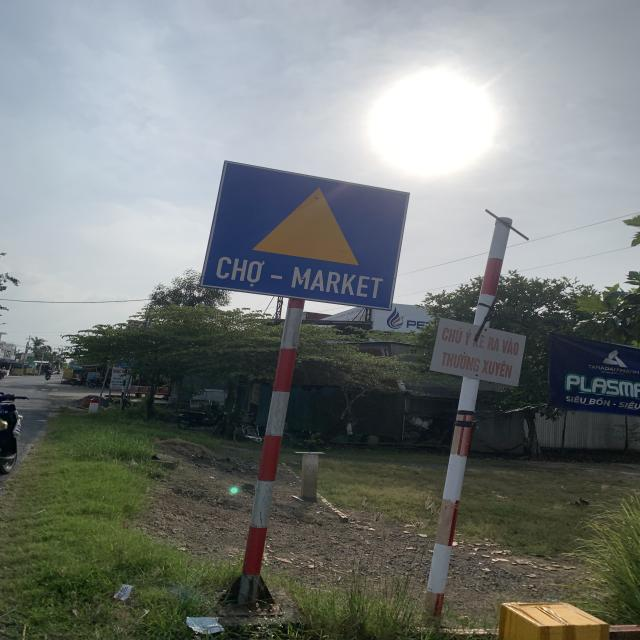Cho_Quay_Xe: (198, 160, 410, 310)
